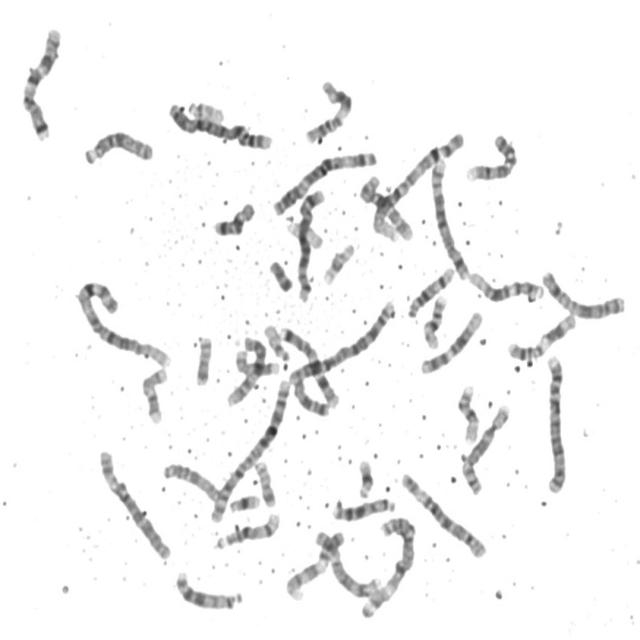A1: (368, 126, 469, 244), (73, 275, 175, 370)
A2: (206, 372, 294, 524), (286, 294, 400, 386)
A3: (268, 144, 380, 218), (357, 510, 419, 620)
B4: (164, 95, 275, 153), (542, 348, 570, 496)
B5: (426, 151, 472, 282), (293, 183, 328, 304)
C10: (356, 168, 416, 242), (223, 332, 268, 408)
C11: (504, 308, 579, 361), (302, 74, 356, 146)
C12: (417, 305, 486, 376), (466, 265, 547, 305)
C6: (95, 443, 175, 561), (398, 466, 490, 560)
C7: (277, 320, 343, 410), (17, 20, 64, 142)
C8: (458, 398, 512, 496), (312, 531, 384, 603)
C9: (282, 524, 347, 602), (463, 129, 520, 182)
D13: (172, 565, 245, 612), (329, 491, 398, 522)
D14: (211, 507, 283, 551), (405, 261, 457, 320)
D15: (80, 124, 157, 167), (160, 456, 223, 504)
E16: (419, 289, 450, 351), (454, 379, 483, 445)
E17: (138, 362, 171, 425), (231, 345, 281, 377)
E18: (288, 370, 332, 418), (210, 195, 258, 238)
F19: (319, 237, 357, 286), (284, 215, 326, 249)
F20: (250, 454, 278, 508), (191, 329, 215, 387)
G21: (354, 453, 376, 499), (225, 488, 262, 515)
G22: (261, 319, 293, 363), (184, 95, 227, 124)
X: (538, 264, 629, 321)
Y: (266, 255, 295, 292)
